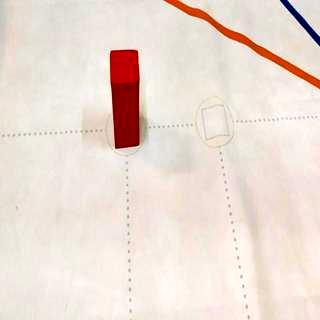redbox: (110, 51, 141, 148)
